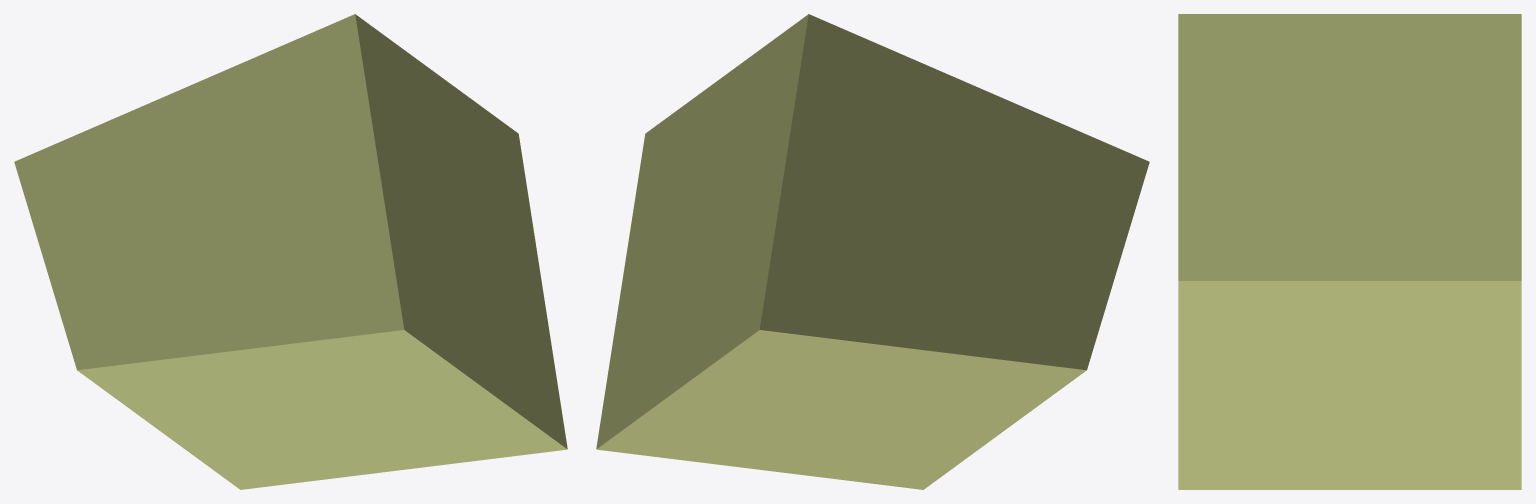
3 renders of one model, left to right at view 1: azimuth 30°, elevation 25°; view 2: azimuth 150°, elevation 25°; view 3: azimuth 270°, elevation 25°, orthographic. The views are drawn at different scales.
Parts seen in each view (by area): view 1: 0_1_2_0_1_1_0_0_1_2_0; view 2: 0_1_2_0_1_1_0_0_1_2_0; view 3: 0_1_2_0_1_1_0_0_1_2_0.
Part boxes in pixels (x1,y1,x2,y2): 0_1_2_0_1_1_0_0_1_2_0: (14,14,567,489); 0_1_2_0_1_1_0_0_1_2_0: (596,14,1149,489); 0_1_2_0_1_1_0_0_1_2_0: (1178,14,1521,489).
Bounding box in the file's own units: 8.26 × 6.64 × 6.
